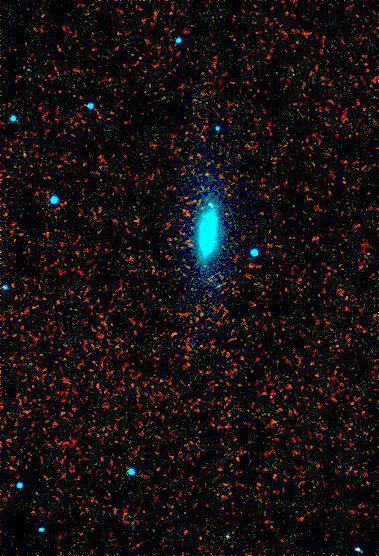star: (193, 195, 223, 225)
